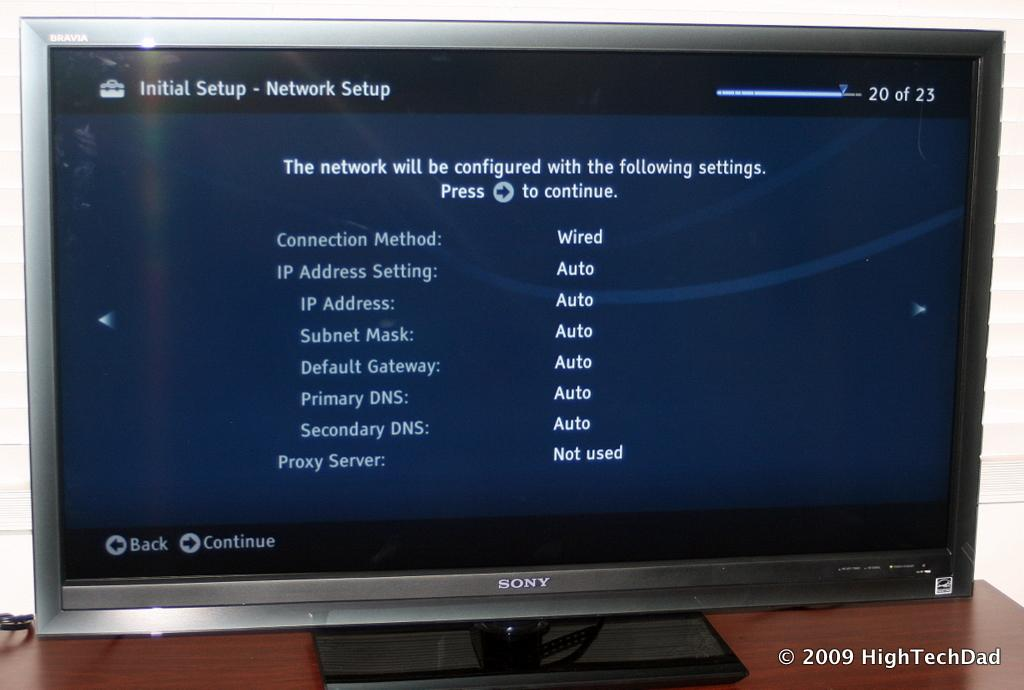Computer-monitor: (21, 16, 1001, 673)
